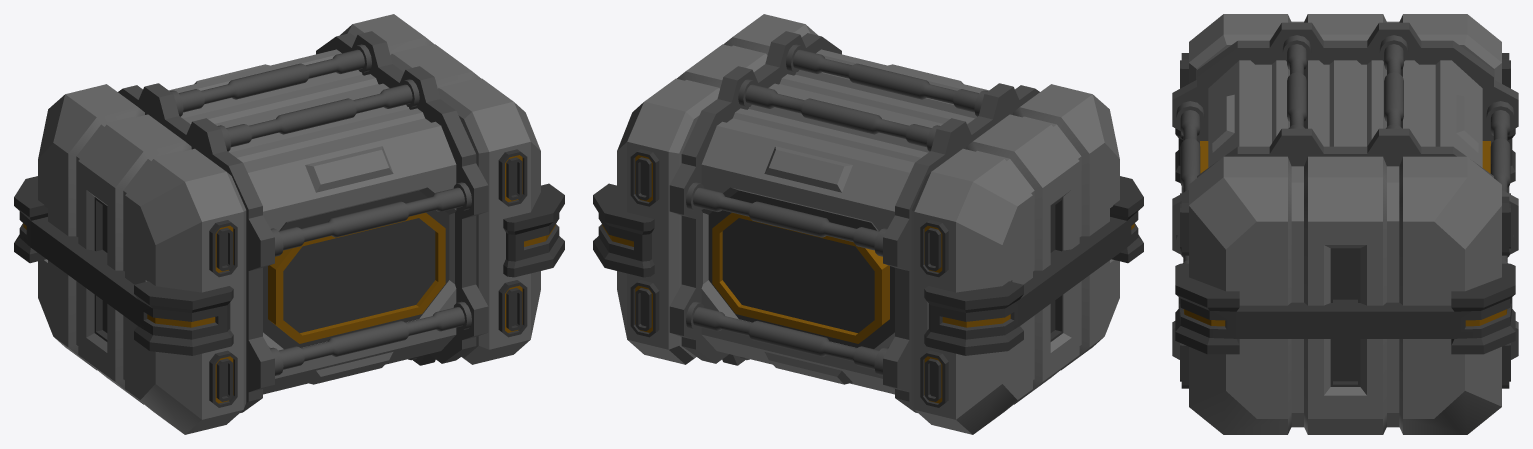
The model's file is SM_Crate_01.fbx.
3 renders of one model, left to right at view 1: azimuth 30°, elevation 25°; view 2: azimuth 150°, elevation 25°; view 3: azimuth 270°, elevation 25°, orthographic.
Parts seen in each view (by area): view 1: SM_Crate_01; view 2: SM_Crate_01; view 3: SM_Crate_01.
Part boxes in pixels (x1,y1,x2,y2): SM_Crate_01: [14, 14, 564, 434]; SM_Crate_01: [593, 14, 1143, 434]; SM_Crate_01: [1172, 14, 1518, 434].
Bounding box in the file's own units: 200 × 131 × 142.
